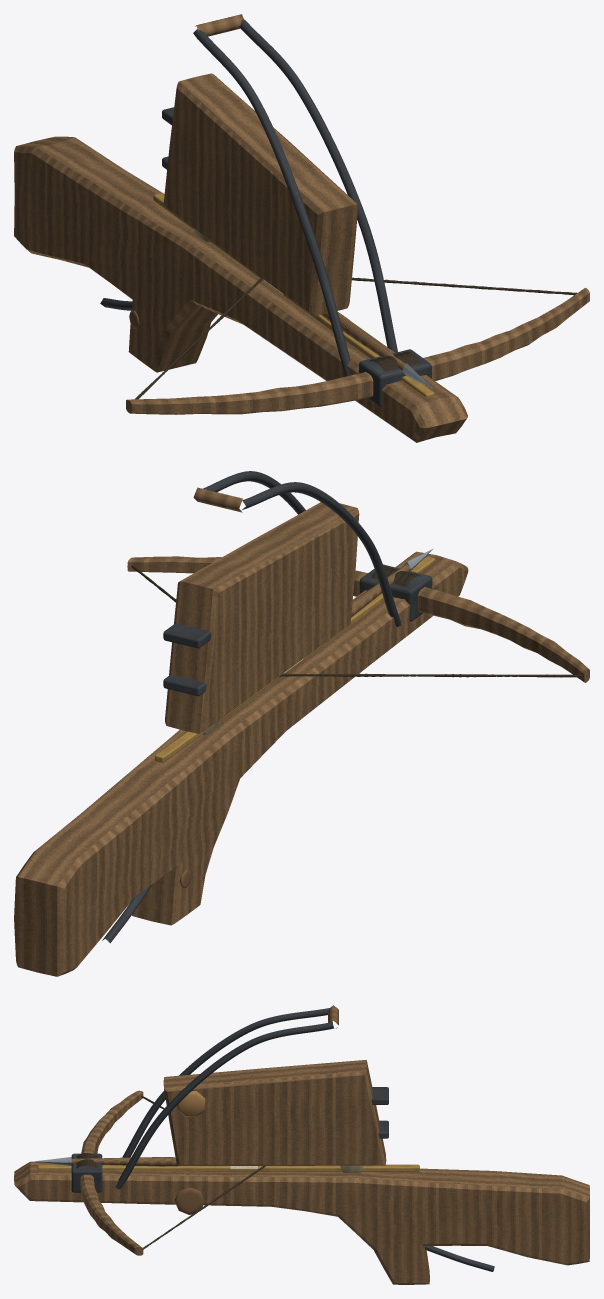
Rendered from repeating-crossbow.lod1.glb.
3 views of the same model, one above another, from view 1: azimuth 30°, elevation 25°; view 2: azimuth 150°, elevation 25°; view 3: azimuth 270°, elevation 25° (orthographic). The views are drawn at different scales.
Parts seen in each view (by area): view 1: wood / oiled hardwood, darksteel / oil-blackened fittings, cord / waxed silk cord wrap, brass / polished brass furniture; view 2: wood / oiled hardwood, darksteel / oil-blackened fittings, cord / waxed silk cord wrap, brass / polished brass furniture; view 3: wood / oiled hardwood, darksteel / oil-blackened fittings, brass / polished brass furniture, cord / waxed silk cord wrap, drawbore peg, peened pin.
Boxes of the visible parts, x1=… form: wood / oiled hardwood: x1=14, y1=14, x2=589, y2=442; darksteel / oil-blackened fittings: x1=100, y1=19, x2=431, y2=406; cord / waxed silk cord wrap: x1=135, y1=277, x2=576, y2=399; brass / polished brass furniture: x1=153, y1=193, x2=434, y2=396; wood / oiled hardwood: x1=14, y1=487, x2=589, y2=976; darksteel / oil-blackened fittings: x1=102, y1=471, x2=432, y2=943; cord / waxed silk cord wrap: x1=131, y1=565, x2=587, y2=677; brass / polished brass furniture: x1=155, y1=556, x2=434, y2=762; wood / oiled hardwood: x1=14, y1=1005, x2=589, y2=1284; darksteel / oil-blackened fittings: x1=71, y1=1008, x2=494, y2=1271; brass / polished brass furniture: x1=37, y1=1164, x2=419, y2=1171; cord / waxed silk cord wrap: x1=76, y1=1095, x2=265, y2=1251; drawbore peg: x1=174, y1=1187, x2=204, y2=1214; peened pin: x1=177, y1=1091, x2=205, y2=1116.
Size of the model in its own units: 0.6018 by 0.4748 by 0.9344.
Materials: 9 (7 with a texture image).
